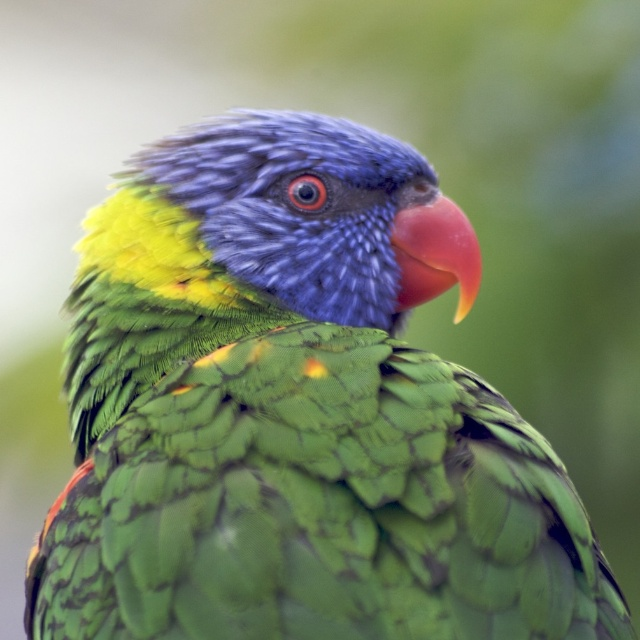Parrot: (21, 102, 634, 628)
